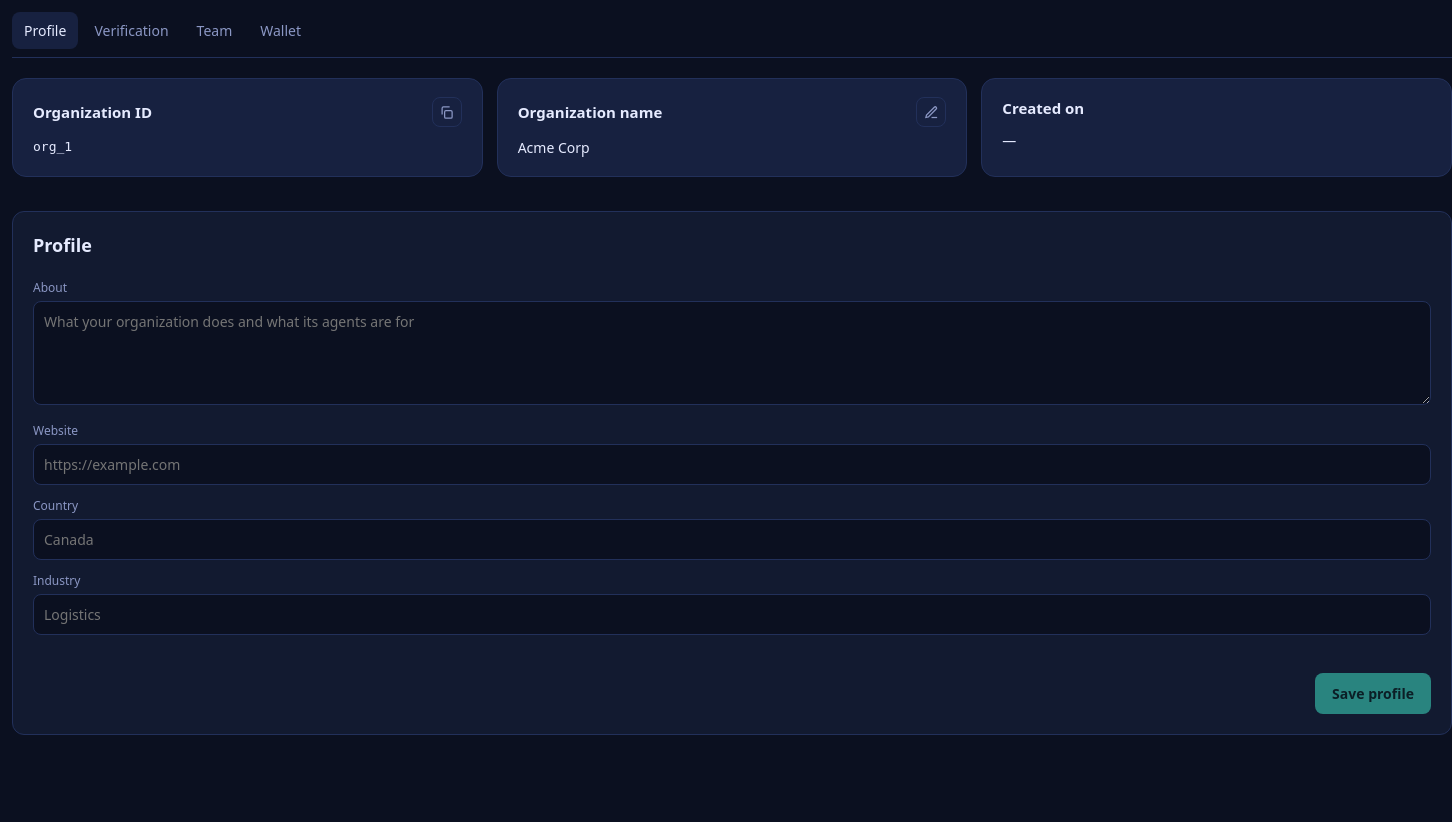
OrganizationPage › offers Profile, Verification, Team and Wallet to an org admin, opening on the profile
Expected: the text box labelled "About" is shown, [33,301,1431,405]
Click the tab "Verification": (132,30) [82,12,181,49]
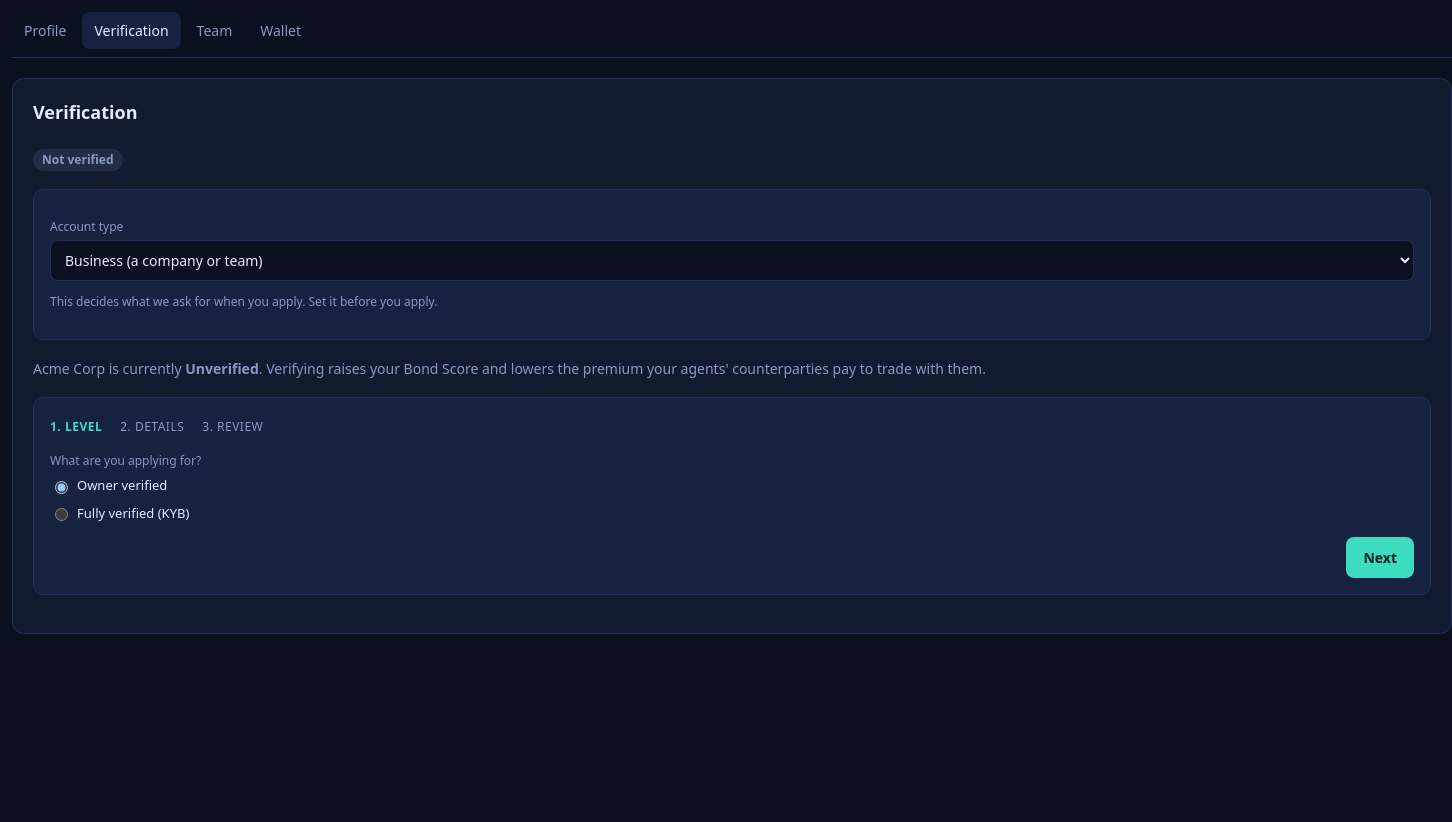
Expected: the text "1. Level" is shown, [50,418,102,436]
